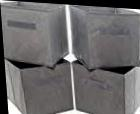cube: (0, 0, 69, 68), (70, 4, 140, 70), (3, 54, 75, 114), (72, 60, 140, 114)
